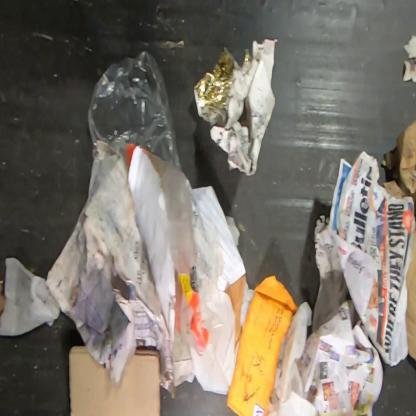cardboard: (379, 100, 415, 415), (68, 346, 162, 415)
soft_plastic: (88, 51, 224, 364)
